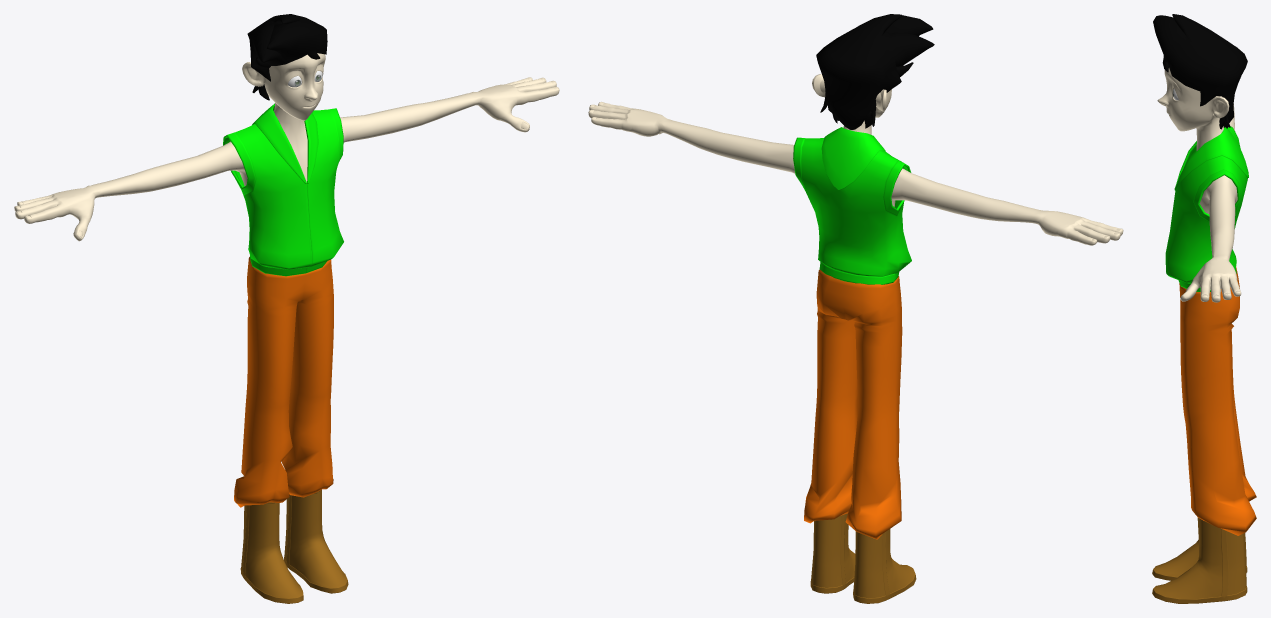
The model's file is boy.gltf.
3 renders of one model, left to right at view 1: azimuth 30°, elevation 25°; view 2: azimuth 150°, elevation 25°; view 3: azimuth 270°, elevation 25°, orthographic. The views are drawn at different scales.
Visible parts, largest first — view 1: boy; view 2: boy; view 3: boy.
Part boxes in pixels (<box>): boy: <box>14,14,559,603</box>; boy: <box>588,14,1123,603</box>; boy: <box>1152,14,1256,603</box>.
Size of the model in its own units: 15.28 by 15.59 by 2.64.
